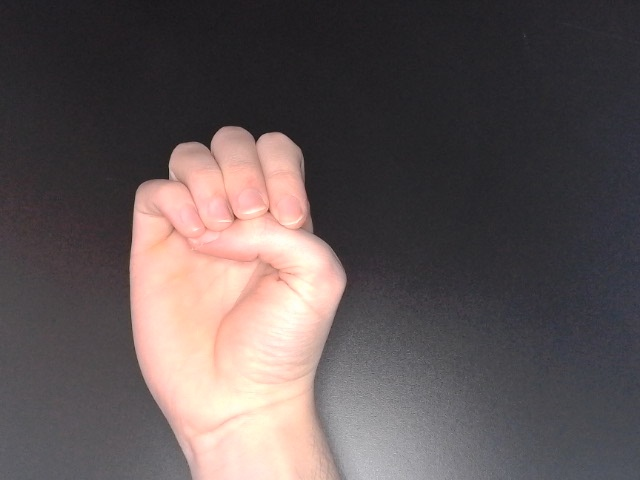e: (124, 122, 351, 448)
